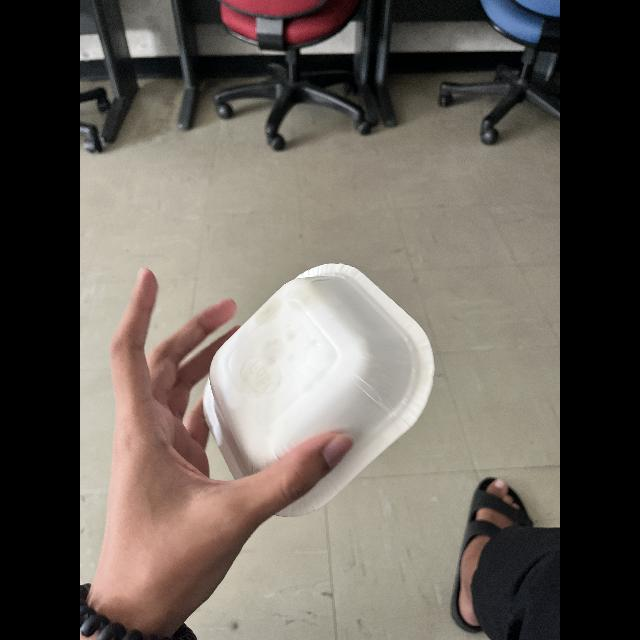cardboard_bowl: (196, 267, 440, 517)
